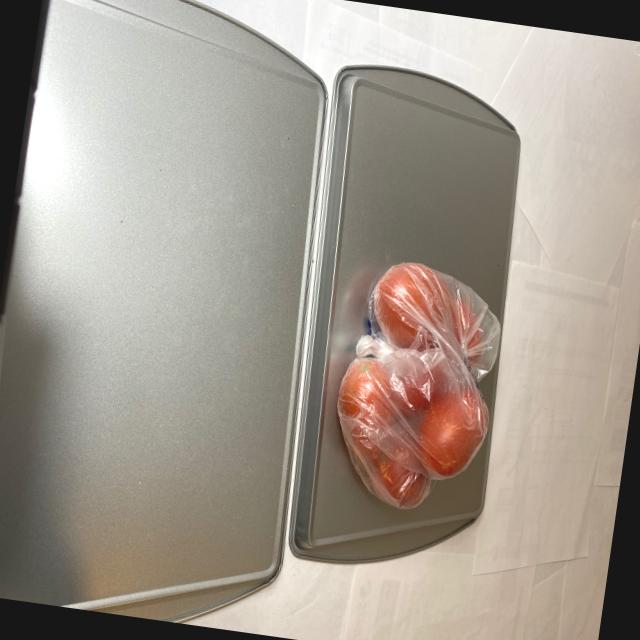tomato: (324, 259, 504, 522)
